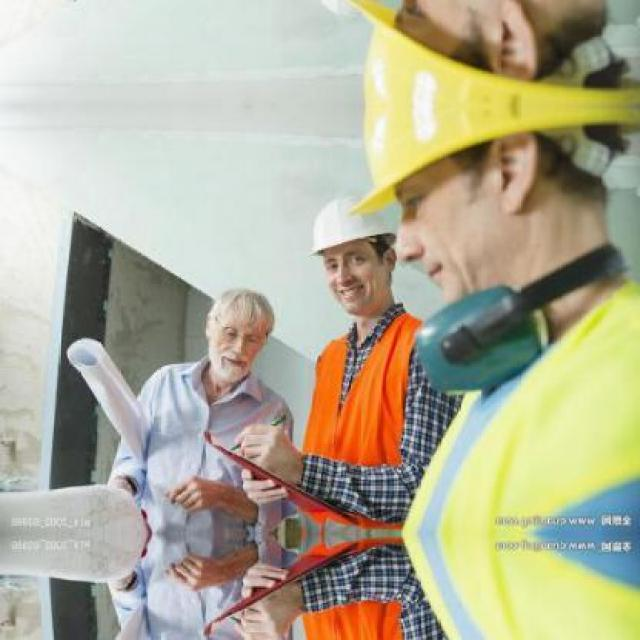Reflective-Jacket: (404, 279, 638, 631), (291, 304, 434, 536)
Safety-Helmet: (340, 12, 640, 210), (303, 185, 414, 262)
